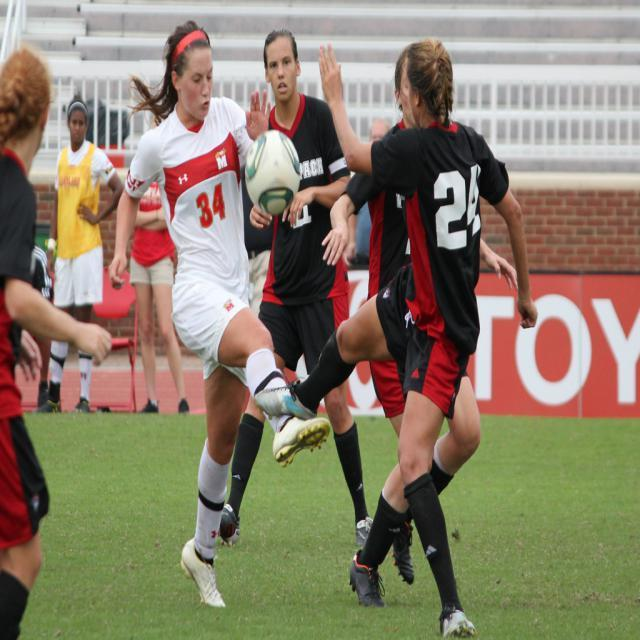football: (238, 135, 314, 219)
